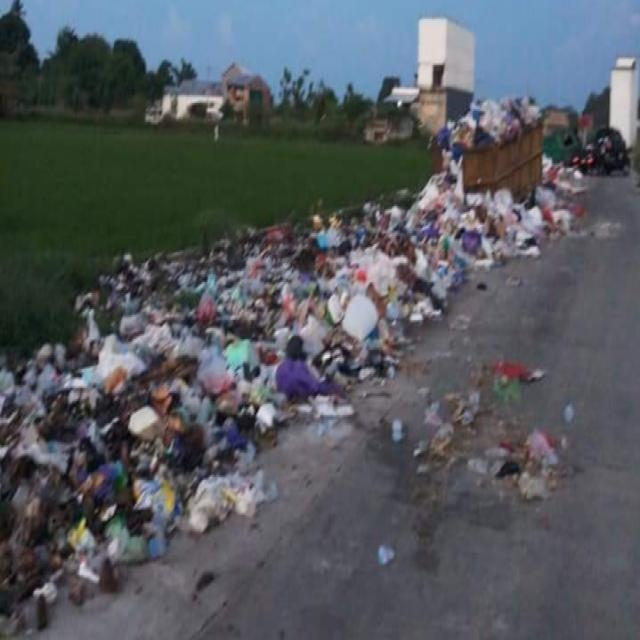trash: (1, 182, 608, 556)
